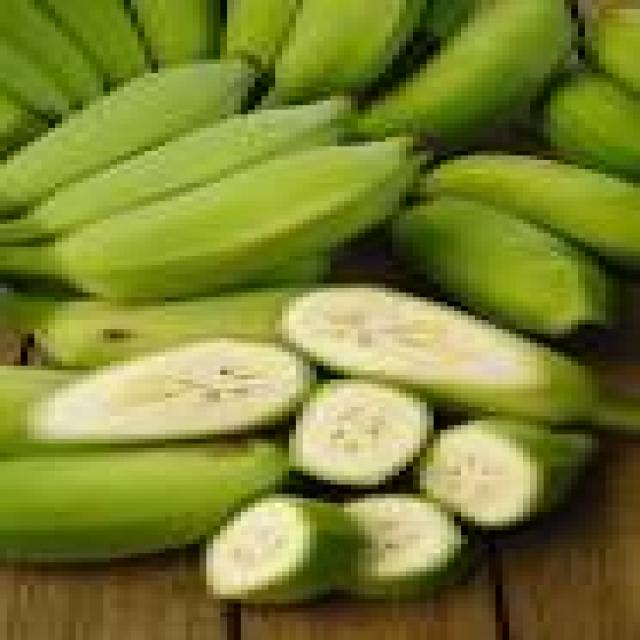banana: (0, 138, 419, 301), (0, 101, 350, 242), (283, 284, 598, 425), (0, 60, 254, 214), (0, 439, 289, 562), (393, 197, 612, 338), (358, 0, 571, 141), (28, 339, 316, 443), (420, 151, 639, 265), (0, 288, 302, 370), (420, 416, 598, 530), (207, 494, 364, 603), (290, 380, 433, 489), (269, 0, 419, 100), (345, 494, 474, 598), (0, 0, 103, 105), (544, 74, 639, 178), (42, 0, 151, 86), (0, 366, 75, 457), (0, 37, 75, 118), (131, 0, 220, 68), (221, 0, 302, 68), (585, 5, 639, 91), (0, 92, 48, 155), (255, 252, 330, 287), (427, 0, 481, 41)
